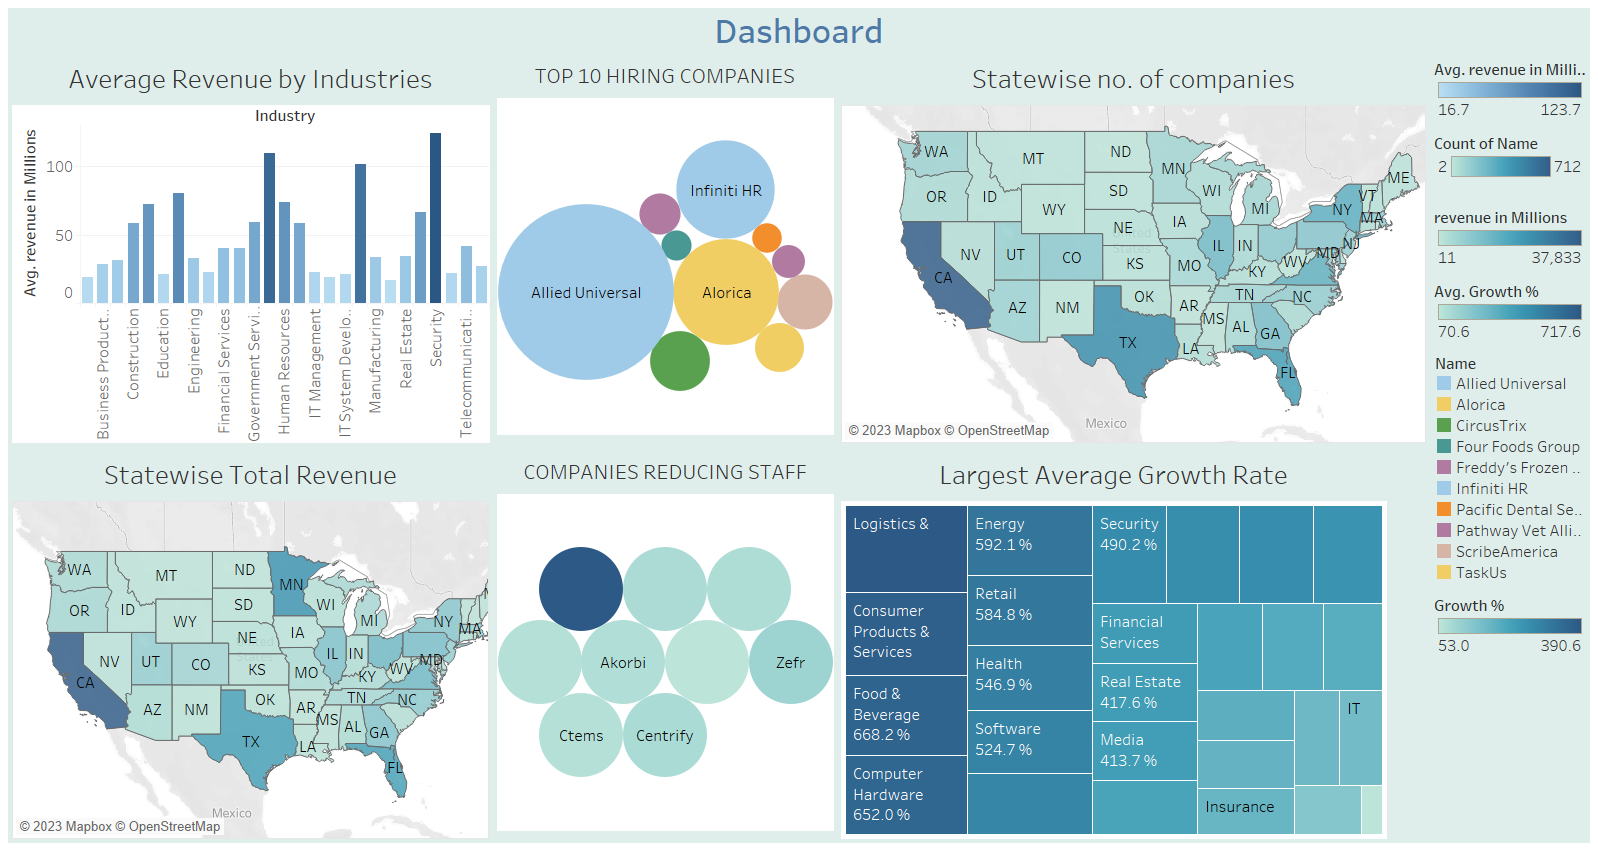

This screenshot's page, from the dashboard's own definition file:
{"tool":"tableau","page":{"name":"Inc 5000 Companies","canvas":[1000,1000],"units":"permille","ordinal":0},"visuals":[{"type":"text","box":[4.8,9.4,990.3,50.5]},{"type":"worksheet","title":"Average Revenue by Industries ","mark":"Automatic","rows":["revenue in Millions"],"cols":["industry"],"box":[4.8,59.9,337.7,465.3]},{"type":"worksheet","title":"TOP 10 HIRING COMPANIES","mark":"Circle","box":[342.6,59.9,239.6,465.3]},{"type":"worksheet","title":"GT- No. of Companies","mark":"Automatic","box":[582.1,59.9,413,465.7]},{"type":"worksheet","title":"GT- Total Revenue","mark":"Automatic","box":[4.8,525.2,337.7,465.4]},{"type":"worksheet","title":"COMPANIES REDUCING STAFF ","mark":"Circle","box":[342.6,525.2,239.6,465.4]},{"type":"worksheet","title":"Largest Average Growth Rate","mark":"Automatic","box":[582.1,525.6,413,465]}]}

Visuals, with their boxes on the dashboard's canvas, which has no fixed pixel size, in thousandths of its width and height (x1, y1, x2, y2). These are canvas units, not pixel positions in the 1598x851 screenshot, which may show the page scaled, cropped or inside an application window:
text: (x1=5, y1=9, x2=995, y2=60)
"Average Revenue by Industries " worksheet: (x1=5, y1=60, x2=342, y2=525)
"TOP 10 HIRING COMPANIES" worksheet (Circle marks): (x1=343, y1=60, x2=582, y2=525)
"GT- No. of Companies" worksheet: (x1=582, y1=60, x2=995, y2=526)
"GT- Total Revenue" worksheet: (x1=5, y1=525, x2=342, y2=991)
"COMPANIES REDUCING STAFF " worksheet (Circle marks): (x1=343, y1=525, x2=582, y2=991)
"Largest Average Growth Rate" worksheet: (x1=582, y1=526, x2=995, y2=991)
